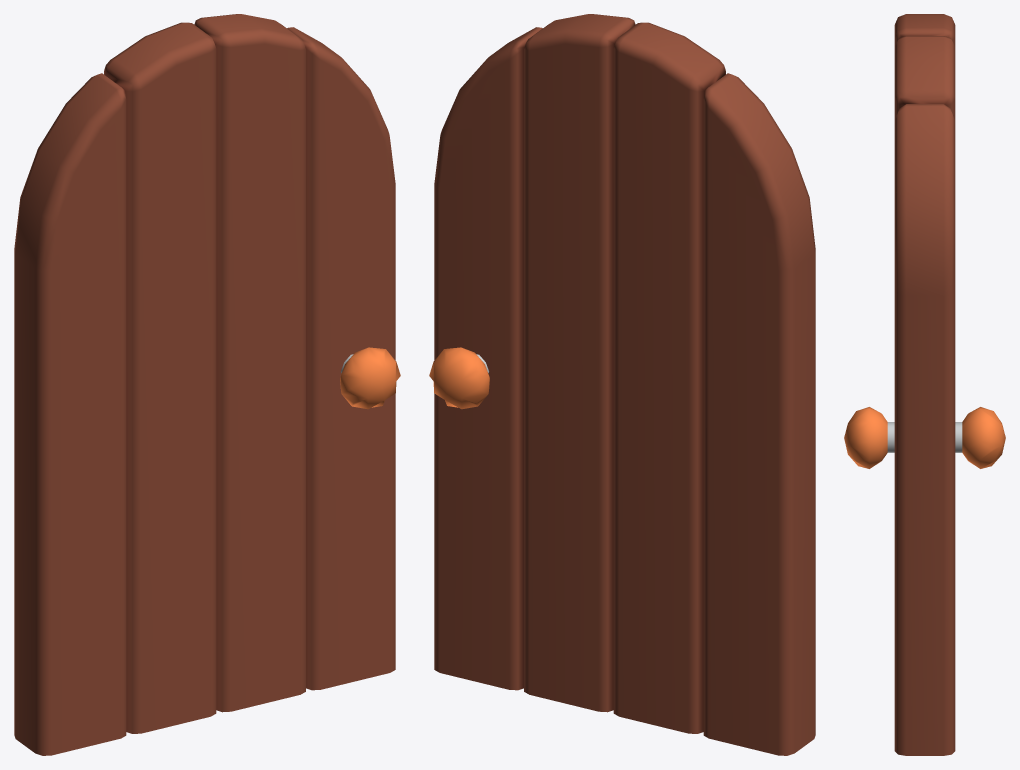
The model's file is Door_001.fbx.
3 views of the same model, side by side, from view 1: azimuth 30°, elevation 25°; view 2: azimuth 150°, elevation 25°; view 3: azimuth 270°, elevation 25° (orthographic). The views are drawn at different scales.
Parts seen in each view (by area): view 1: Door_001; view 2: Door_001; view 3: Door_001.
Part boxes in pixels (x1=…): Door_001: x1=14, y1=14, x2=400, y2=755; Door_001: x1=429, y1=14, x2=815, y2=755; Door_001: x1=844, y1=14, x2=1005, y2=755.
Size of the model in its own units: 123 by 50.78 by 222.
